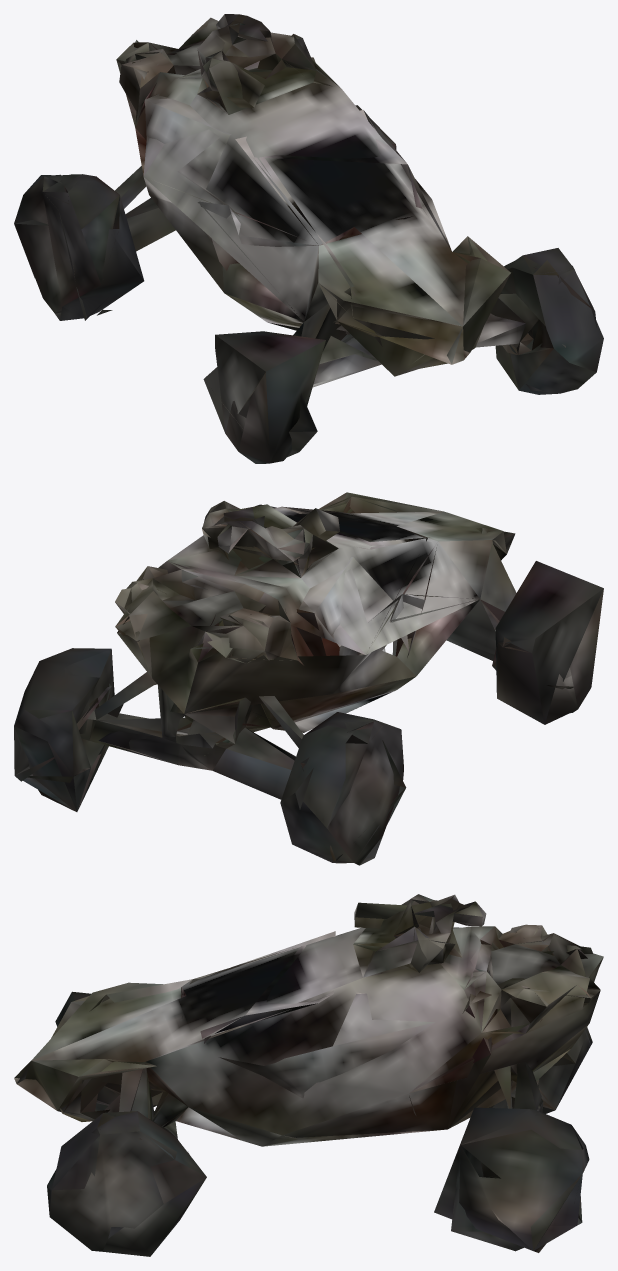
File: buggy_118677426_lod0m.glb
The picture shows the model from 3 angles, top to bottom: view 1: azimuth 30°, elevation 25°; view 2: azimuth 150°, elevation 25°; view 3: azimuth 270°, elevation 25°; orthographic projection. The views are drawn at different scales.
Bounding box in the file's own units: 2.93 × 2.37 × 4.51.
1 material, 1 textured.
